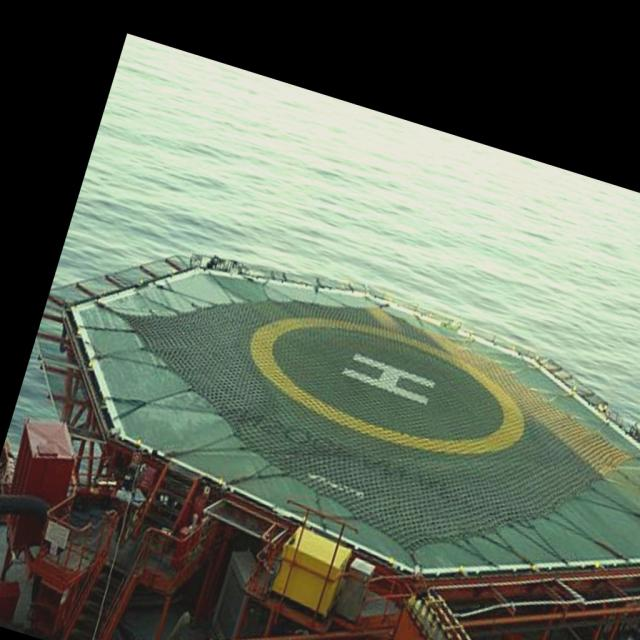helipad: (244, 310, 529, 459)
